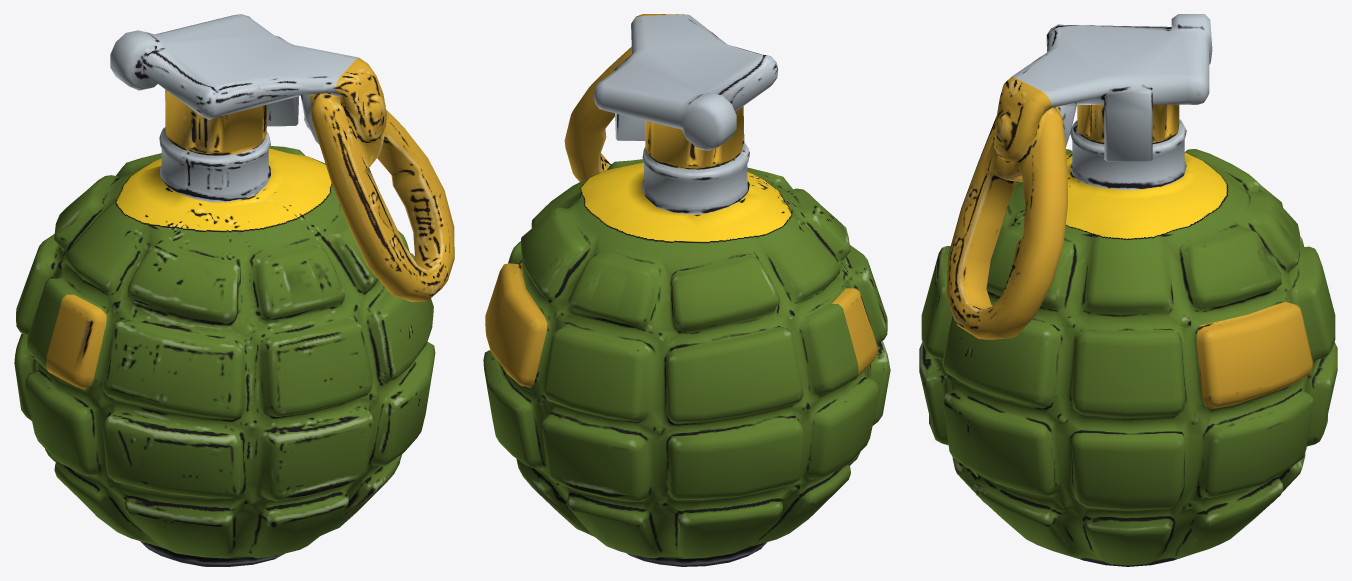
File: frag.glb
3 renders of one model, left to right at view 1: azimuth 30°, elevation 25°; view 2: azimuth 150°, elevation 25°; view 3: azimuth 270°, elevation 25°, orthographic. The views are drawn at different scales.
Parts seen in each view (by area): view 1: Frag; view 2: Frag; view 3: Frag.
Part boxes in pixels (x1,y1,x2,y2): Frag: [14, 14, 454, 566]; Frag: [483, 14, 890, 566]; Frag: [919, 14, 1337, 566].
Bounding box in the file's own units: 0.0842 × 0.11 × 0.0842.
1 material, 1 textured.
